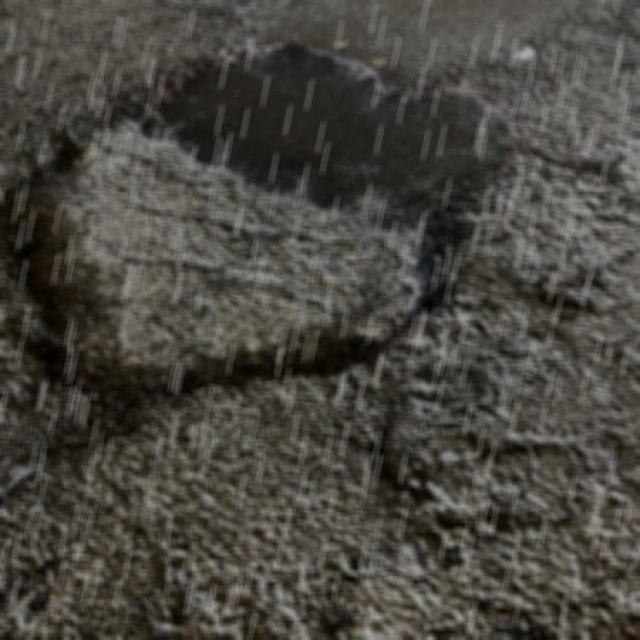road-pothole: (0, 21, 553, 511)
